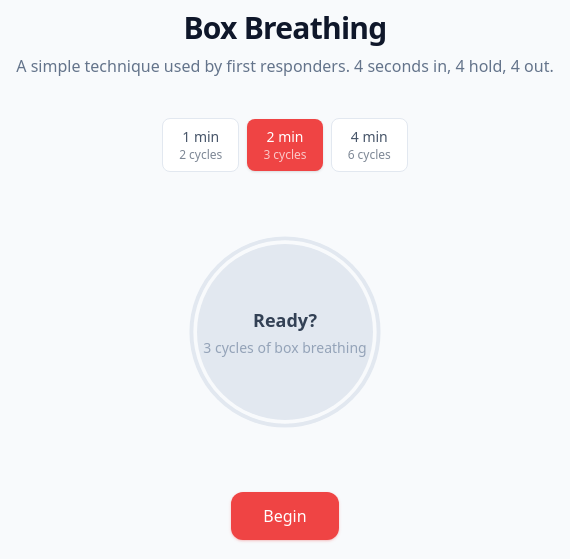
Scenario: BreathingExercise › shows done state after completing cycles
Click the button "Begin": [285, 516] box [231,492,339,540]
Wait 36000 ms
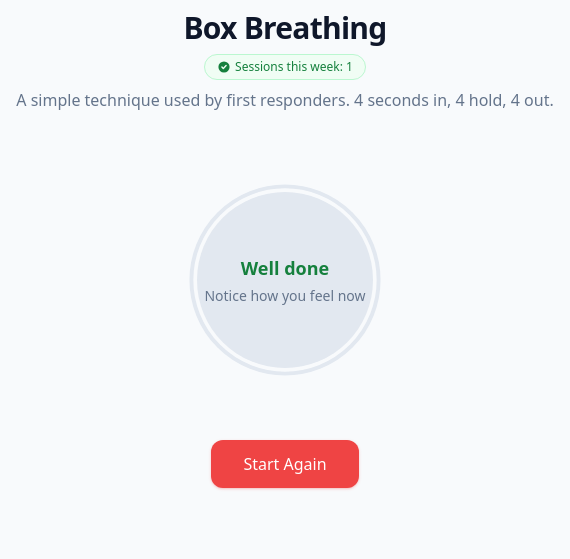
Expected: the text "Well done" is shown, [241,254,329,282]
